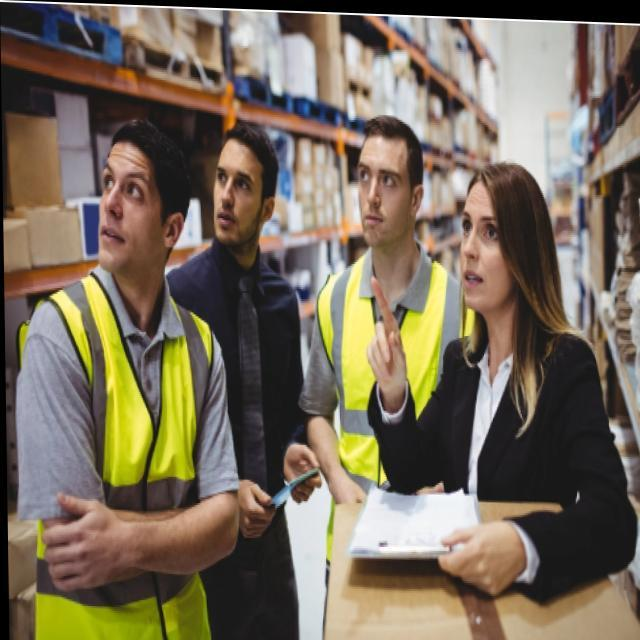vest: (11, 261, 222, 640), (312, 243, 488, 576)
